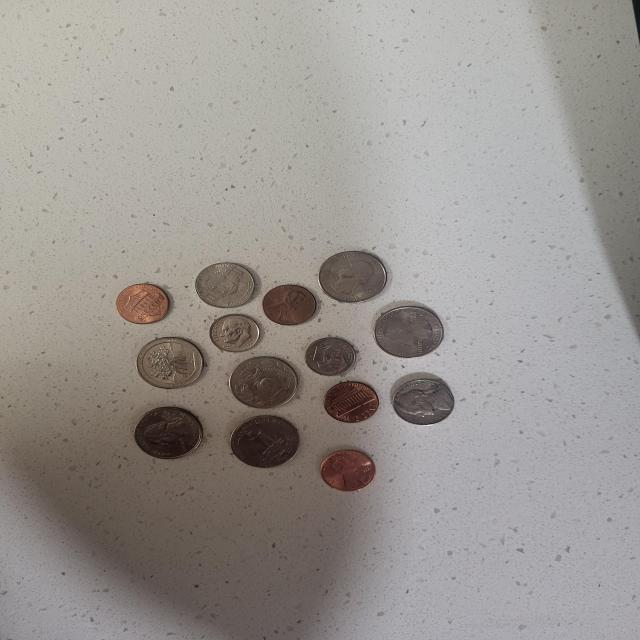Dime: (208, 313, 265, 353), (305, 336, 359, 376)
Nickel: (391, 374, 458, 431), (194, 260, 262, 309)
Penny: (322, 378, 383, 426), (318, 447, 381, 492), (114, 280, 172, 326), (262, 284, 320, 328)
Quarter: (230, 412, 306, 470), (371, 303, 447, 360), (226, 356, 302, 410), (136, 404, 204, 461), (319, 248, 389, 303), (137, 336, 207, 389)
